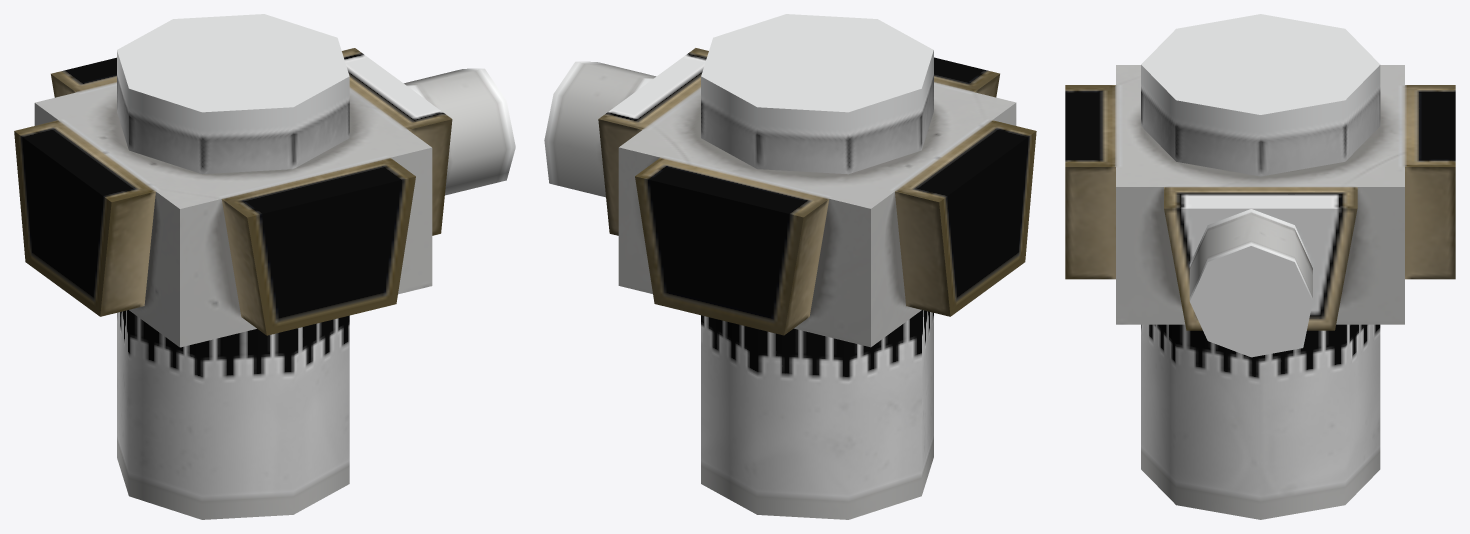
Rendered from little_arm_link_1.dae.
The picture shows the model from 3 angles, left to right: view 1: azimuth 30°, elevation 25°; view 2: azimuth 150°, elevation 25°; view 3: azimuth 270°, elevation 25°; orthographic projection.
Parts seen in each view (by area): view 1: Little_Arm_1; view 2: Little_Arm_1; view 3: Little_Arm_1.
Boxes of the visible parts, x1,y1,x2,y2 form: Little_Arm_1: (14, 14, 515, 519); Little_Arm_1: (544, 14, 1036, 519); Little_Arm_1: (1065, 14, 1455, 519).
Size of the model in its own units: 0.7445 by 0.6075 by 0.695.
1 material, 1 textured.
